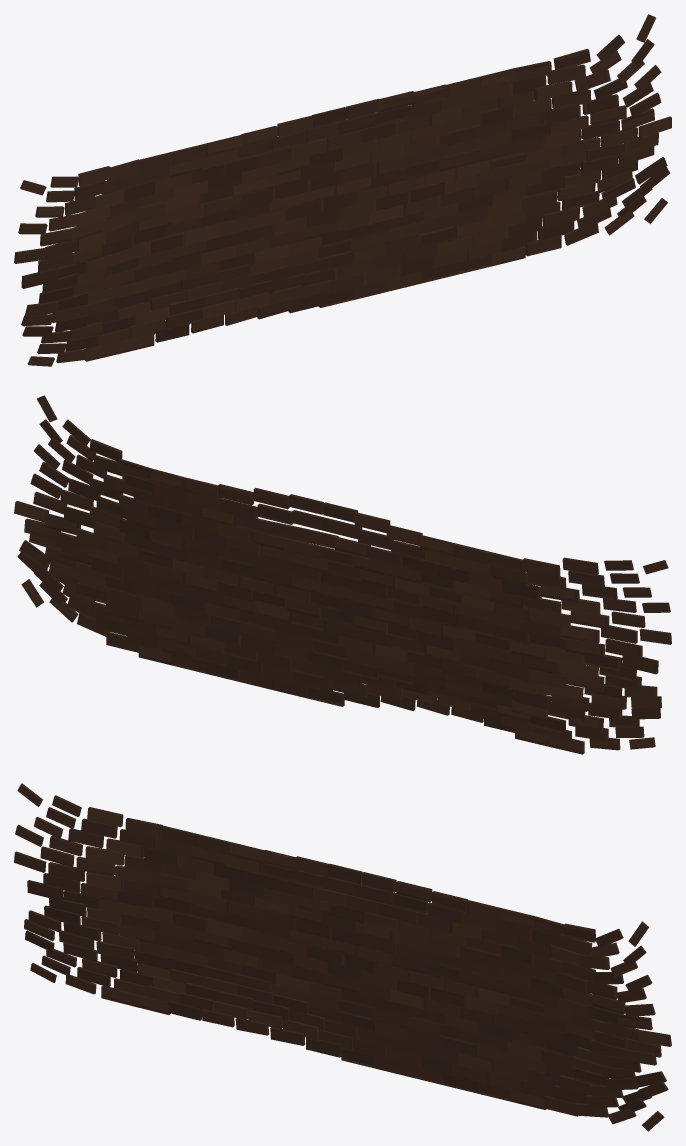
Rendered from ExplodedWall.glb.
3 renders of one model, top to bottom at view 1: azimuth 30°, elevation 25°; view 2: azimuth 150°, elevation 25°; view 3: azimuth 330°, elevation 25°, orthographic.
Parts seen in each view (by area): view 1: ExplodedWall; view 2: ExplodedWall; view 3: ExplodedWall.
Part boxes in pixels (x1,y1,x2,y2): ExplodedWall: (14, 14, 671, 366); ExplodedWall: (14, 395, 671, 754); ExplodedWall: (14, 783, 671, 1131).
Size of the model in its own units: 57.45 by 18.84 by 2.5.
1 material, 1 textured.
